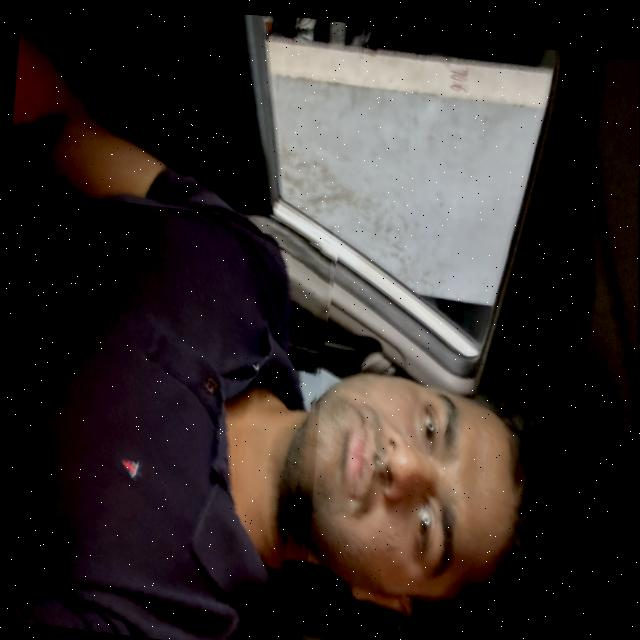no-seatbelt: (0, 185, 333, 640)
